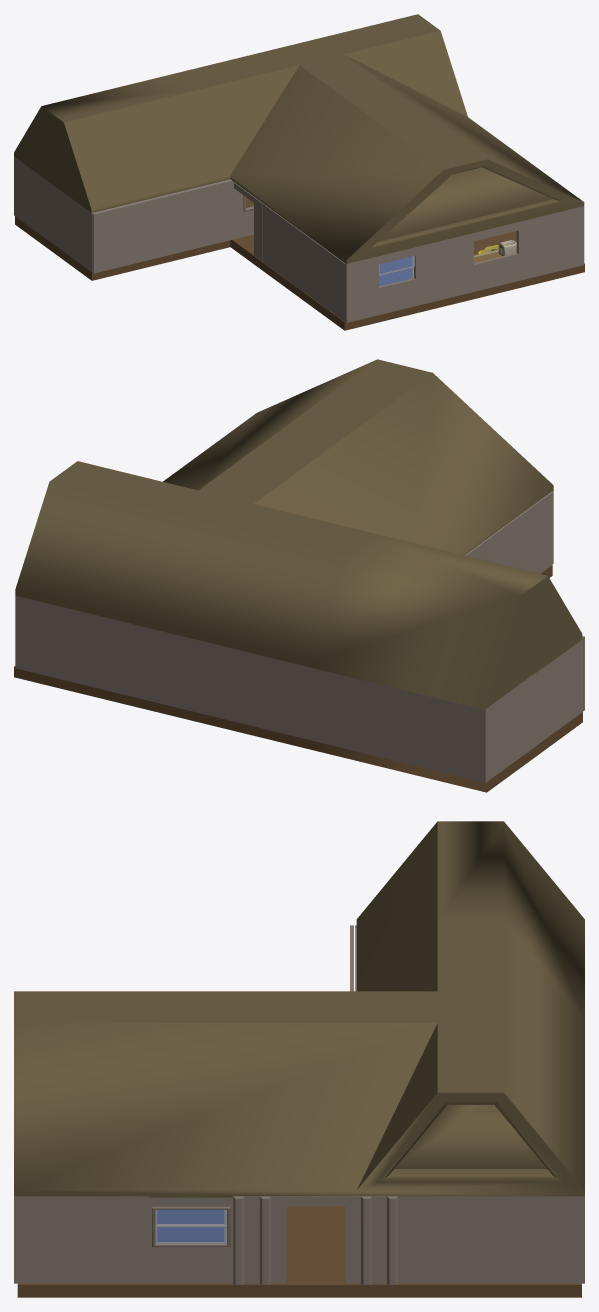
The model's file is house full.fbx.
The picture shows the model from 3 angles, top to bottom: view 1: azimuth 30°, elevation 25°; view 2: azimuth 150°, elevation 25°; view 3: azimuth 270°, elevation 25°; orthographic projection. The views are drawn at different scales.
Visible parts, largest first — view 1: roof, polySurface667, polySurface566, pCube371, polySurface617, polySurface666, polySurface585, polySurface618, polySurface619, polySurface676, polySurface587; view 2: roof, polySurface662, polySurface666, pCube371, polySurface617; view 3: roof, pCube446, pCube371, pCube447, polySurface698, polySurface693, polySurface694, polySurface696, polySurface697, polySurface700, polySurface701, polySurface695.
Boxes of the visible parts, box(x1,y1,x2,y2) form: roof: box(14, 14, 584, 264); polySurface667: box(92, 179, 232, 273); polySurface566: box(424, 206, 581, 303); pCube371: box(15, 197, 584, 330); polySurface617: box(262, 204, 345, 321); polySurface666: box(14, 156, 93, 271); polySurface585: box(345, 245, 424, 322); polySurface618: box(370, 245, 424, 317); polySurface619: box(232, 182, 253, 239); polySurface676: box(254, 196, 262, 261); polySurface587: box(379, 256, 414, 275); roof: box(15, 359, 582, 710); polySurface662: box(15, 595, 485, 782); polySurface666: box(483, 638, 582, 782); pCube371: box(14, 565, 582, 792); polySurface617: box(466, 493, 551, 573); roof: box(14, 821, 584, 1197); pCube446: box(398, 1196, 584, 1283); pCube371: box(17, 1206, 581, 1297); pCube447: box(14, 1196, 148, 1283); polySurface698: box(149, 1197, 232, 1283); polySurface693: box(259, 1196, 286, 1284); polySurface694: box(345, 1196, 372, 1284); polySurface696: box(233, 1196, 259, 1284); polySurface697: box(372, 1196, 398, 1284); polySurface700: box(155, 1225, 227, 1243); polySurface701: box(155, 1209, 227, 1225); polySurface695: box(286, 1196, 346, 1206).
Bounding box in the file's own units: 2431 × 844 × 2148.
